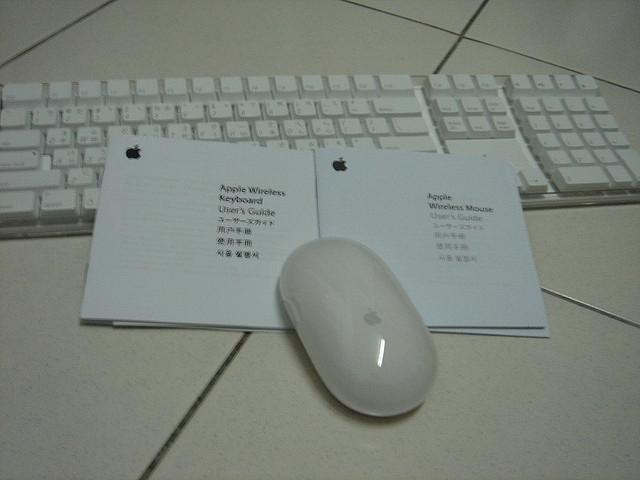apple: (364, 308, 382, 325), (332, 156, 348, 172), (126, 144, 140, 159), (85, 198, 94, 206)
